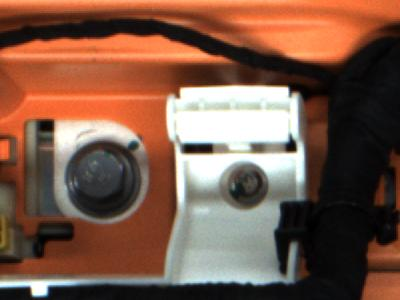nut_b: (62, 142, 142, 218)
